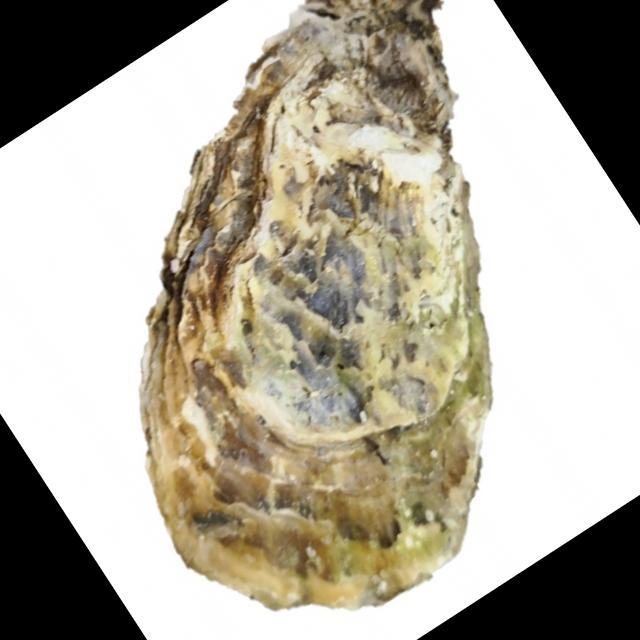Oyster- Indeterminate: (139, 0, 494, 613)
